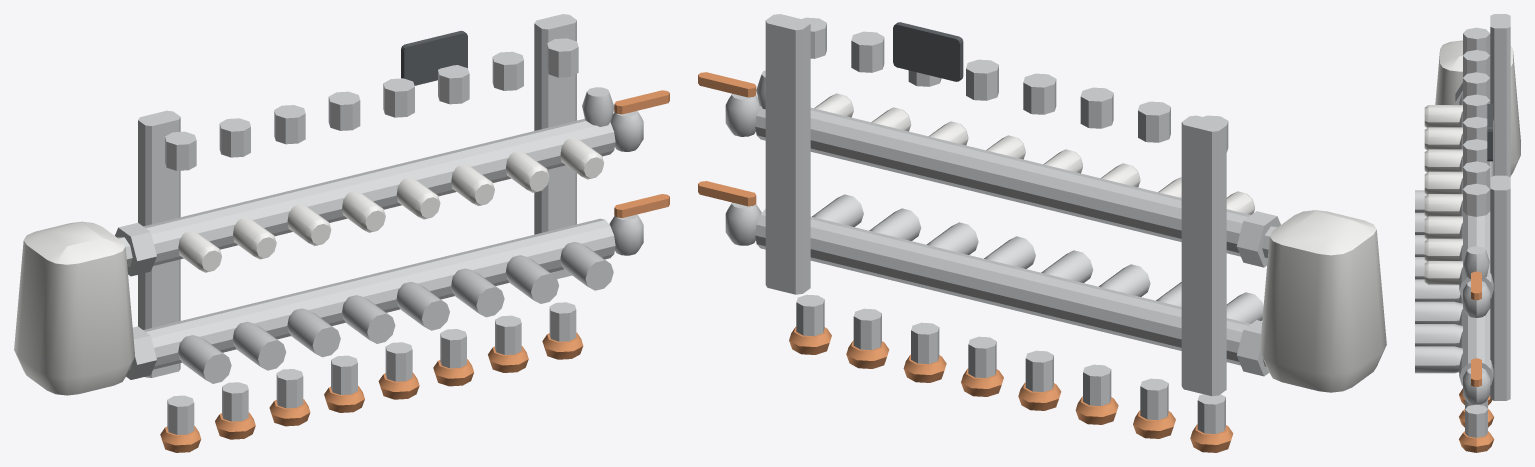
File: manifold-ufh.glb
3 renders of one model, left to right at view 1: azimuth 30°, elevation 25°; view 2: azimuth 150°, elevation 25°; view 3: azimuth 270°, elevation 25°, orthographic. The views are drawn at different scales.
Parts seen in each view (by area): view 1: underfloor-manifold_0, underfloor-manifold_1, underfloor-manifold_2, underfloor-manifold_3; view 2: underfloor-manifold_0, underfloor-manifold_1, underfloor-manifold_2, underfloor-manifold_3; view 3: underfloor-manifold_0, underfloor-manifold_1, underfloor-manifold_2, underfloor-manifold_3.
Part boxes in pixels (left/top/right/bottom): underfloor-manifold_0: left=115, top=14, right=643, bottom=434; underfloor-manifold_1: left=14, top=137, right=603, bottom=395; underfloor-manifold_2: left=160, top=90, right=669, bottom=452; underfloor-manifold_3: left=401, top=30, right=467, bottom=85; underfloor-manifold_0: left=725, top=14, right=1280, bottom=433; underfloor-manifold_1: left=814, top=93, right=1386, bottom=392; underfloor-manifold_2: left=698, top=72, right=1233, bottom=452; underfloor-manifold_3: left=893, top=22, right=963, bottom=81; underfloor-manifold_0: left=1415, top=14, right=1510, bottom=437; underfloor-manifold_1: left=1424, top=40, right=1520, bottom=285; underfloor-manifold_2: left=1459, top=271, right=1494, bottom=452; underfloor-manifold_3: left=1487, top=104, right=1492, bottom=161.
Size of the model in its own units: 0.9045 by 0.455 by 0.155.
